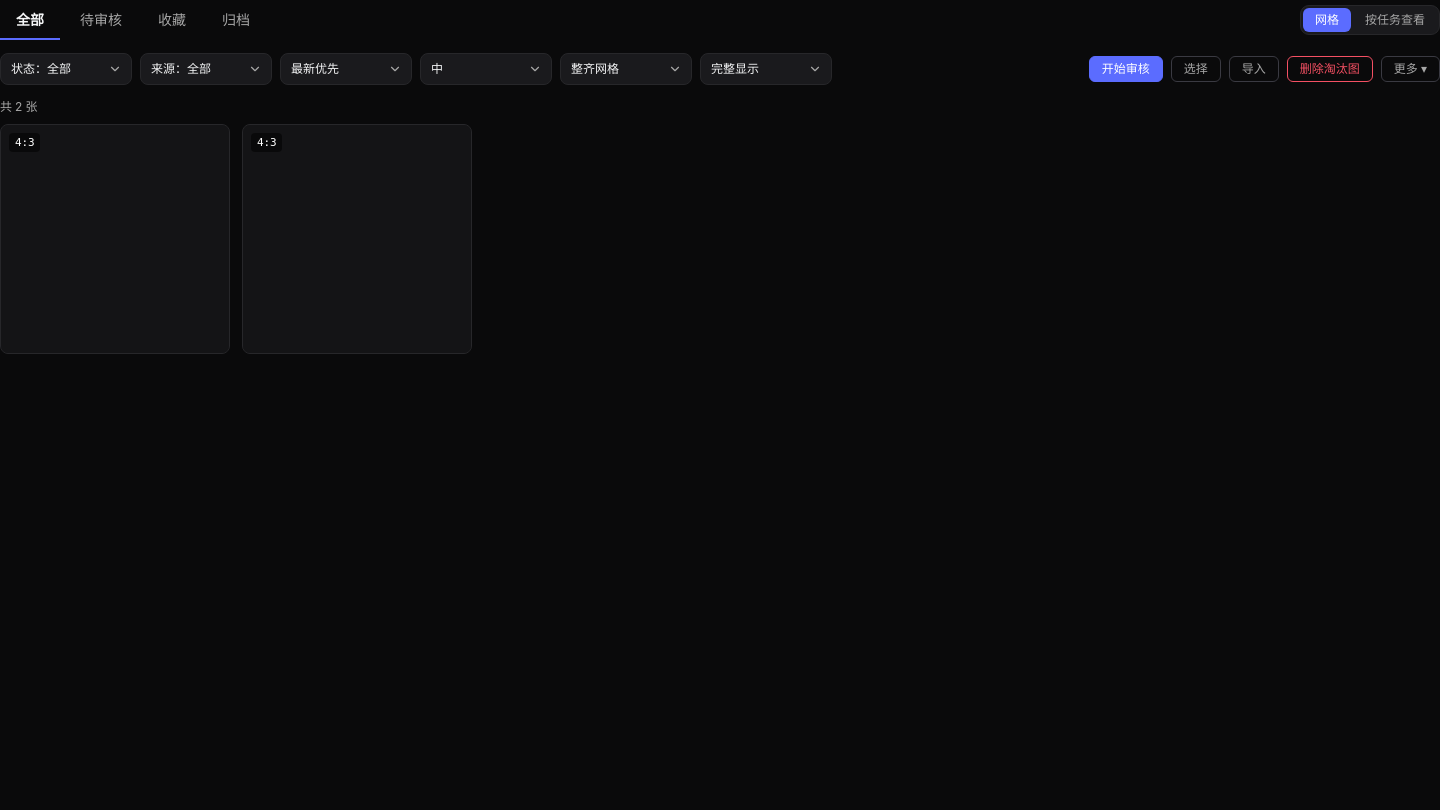
Scenario: Gallery 淘汰图删除入口 › 多选预览可删 0 张时禁用确认按钮
This screenshot has width=1440, height=810.
Expected: the text "共 2 张" is shown, [0,99,37,114]
Step 1. Click the button "选择" → (1196, 69), box [1171,56,1221,82]
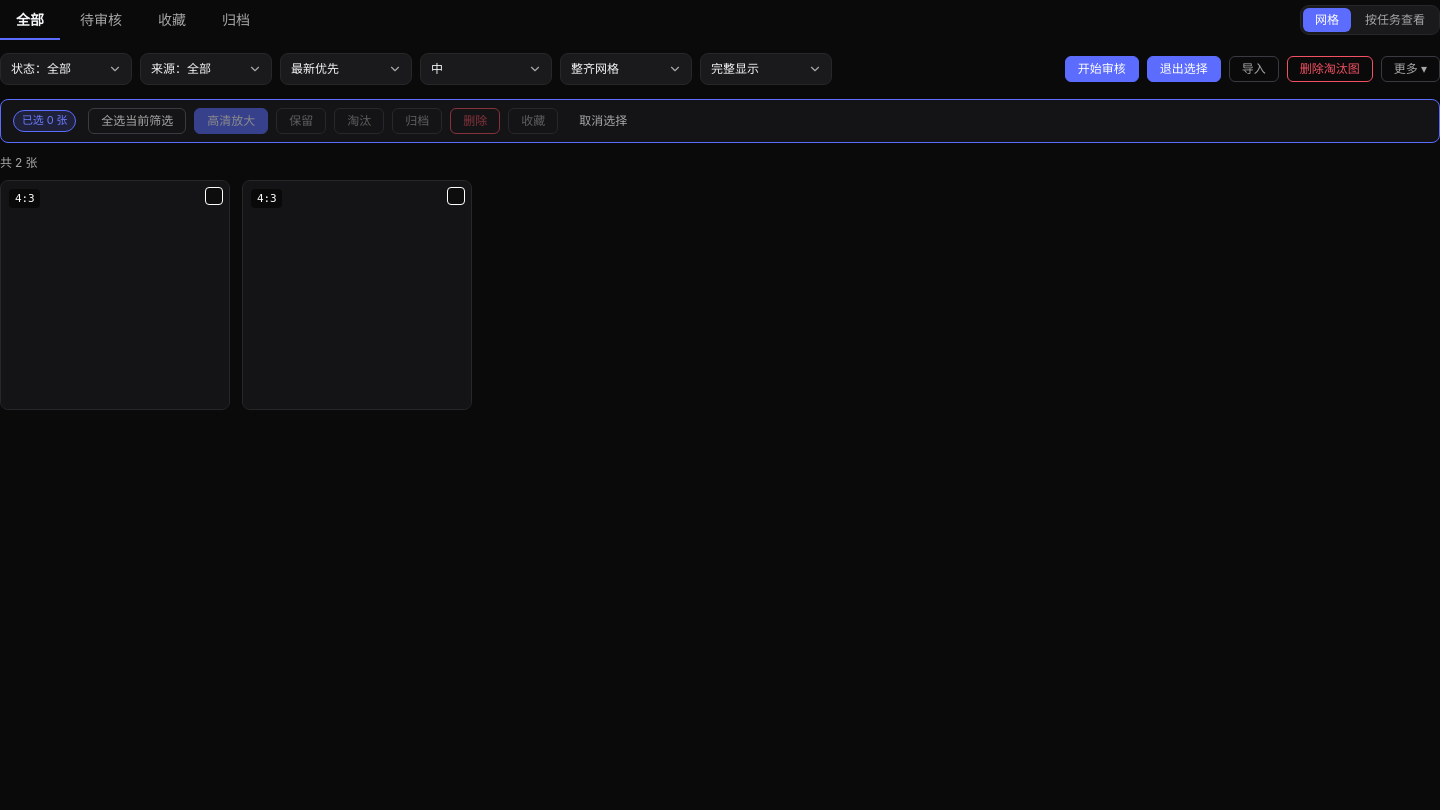
Step 2. Click the element with class "gal-card" showing "4:3" → (115, 295), box [0,180,230,410]
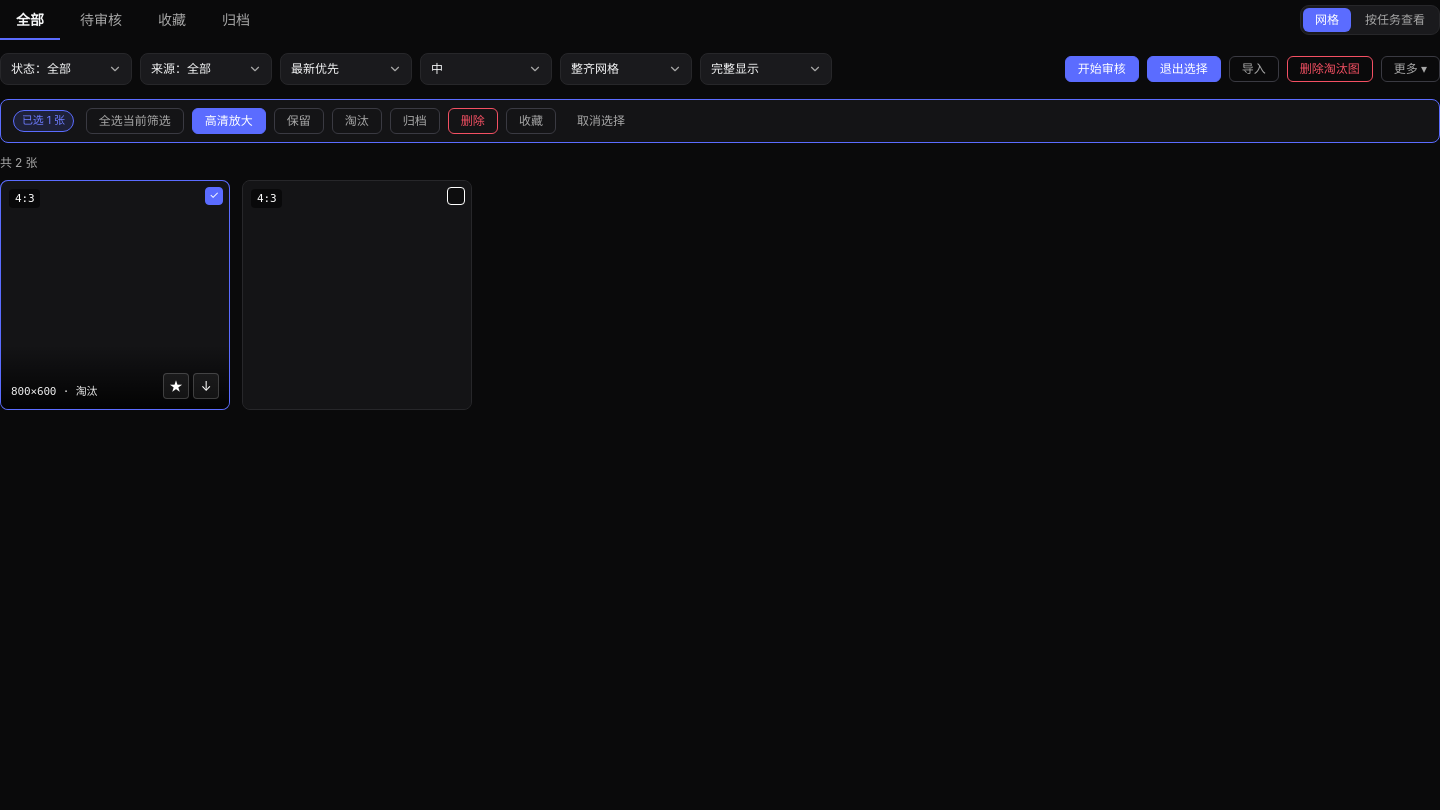
Step 3. Click the button "删除" → (473, 121), box [448,108,498,134]
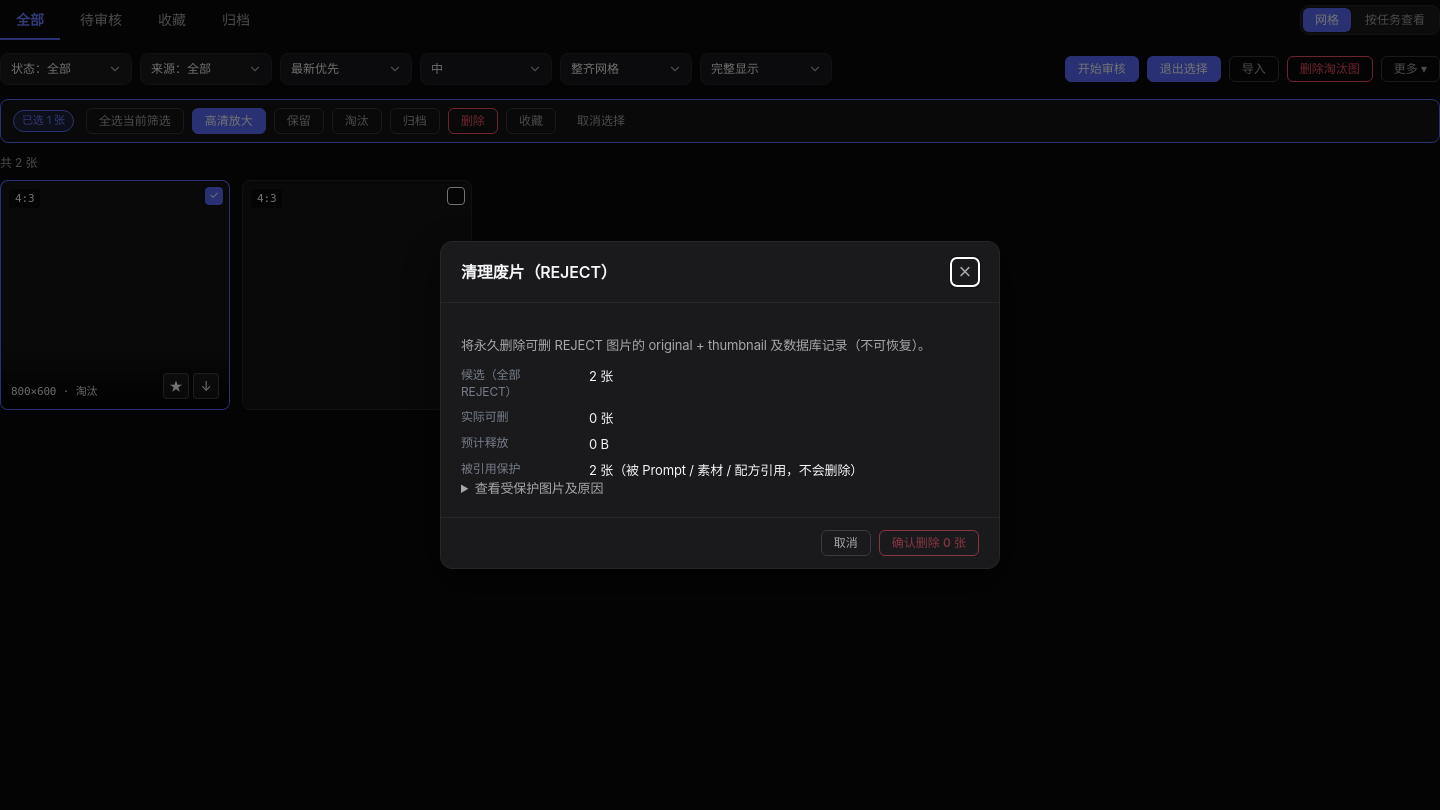
Now the button "确认删除 0 张" is disabled, box [879,530,979,556]
